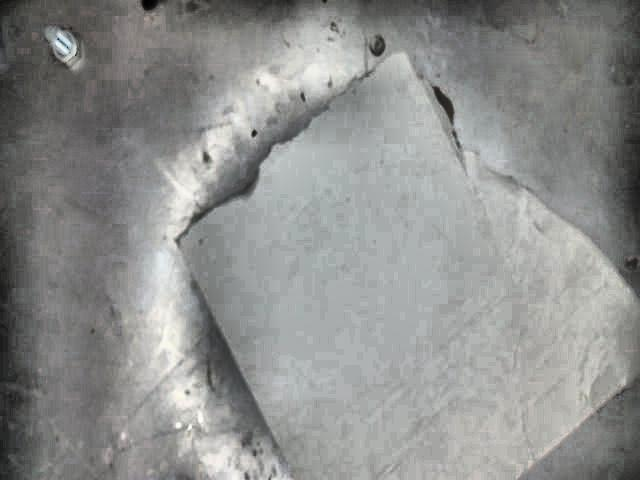Paper: (174, 50, 640, 480)
